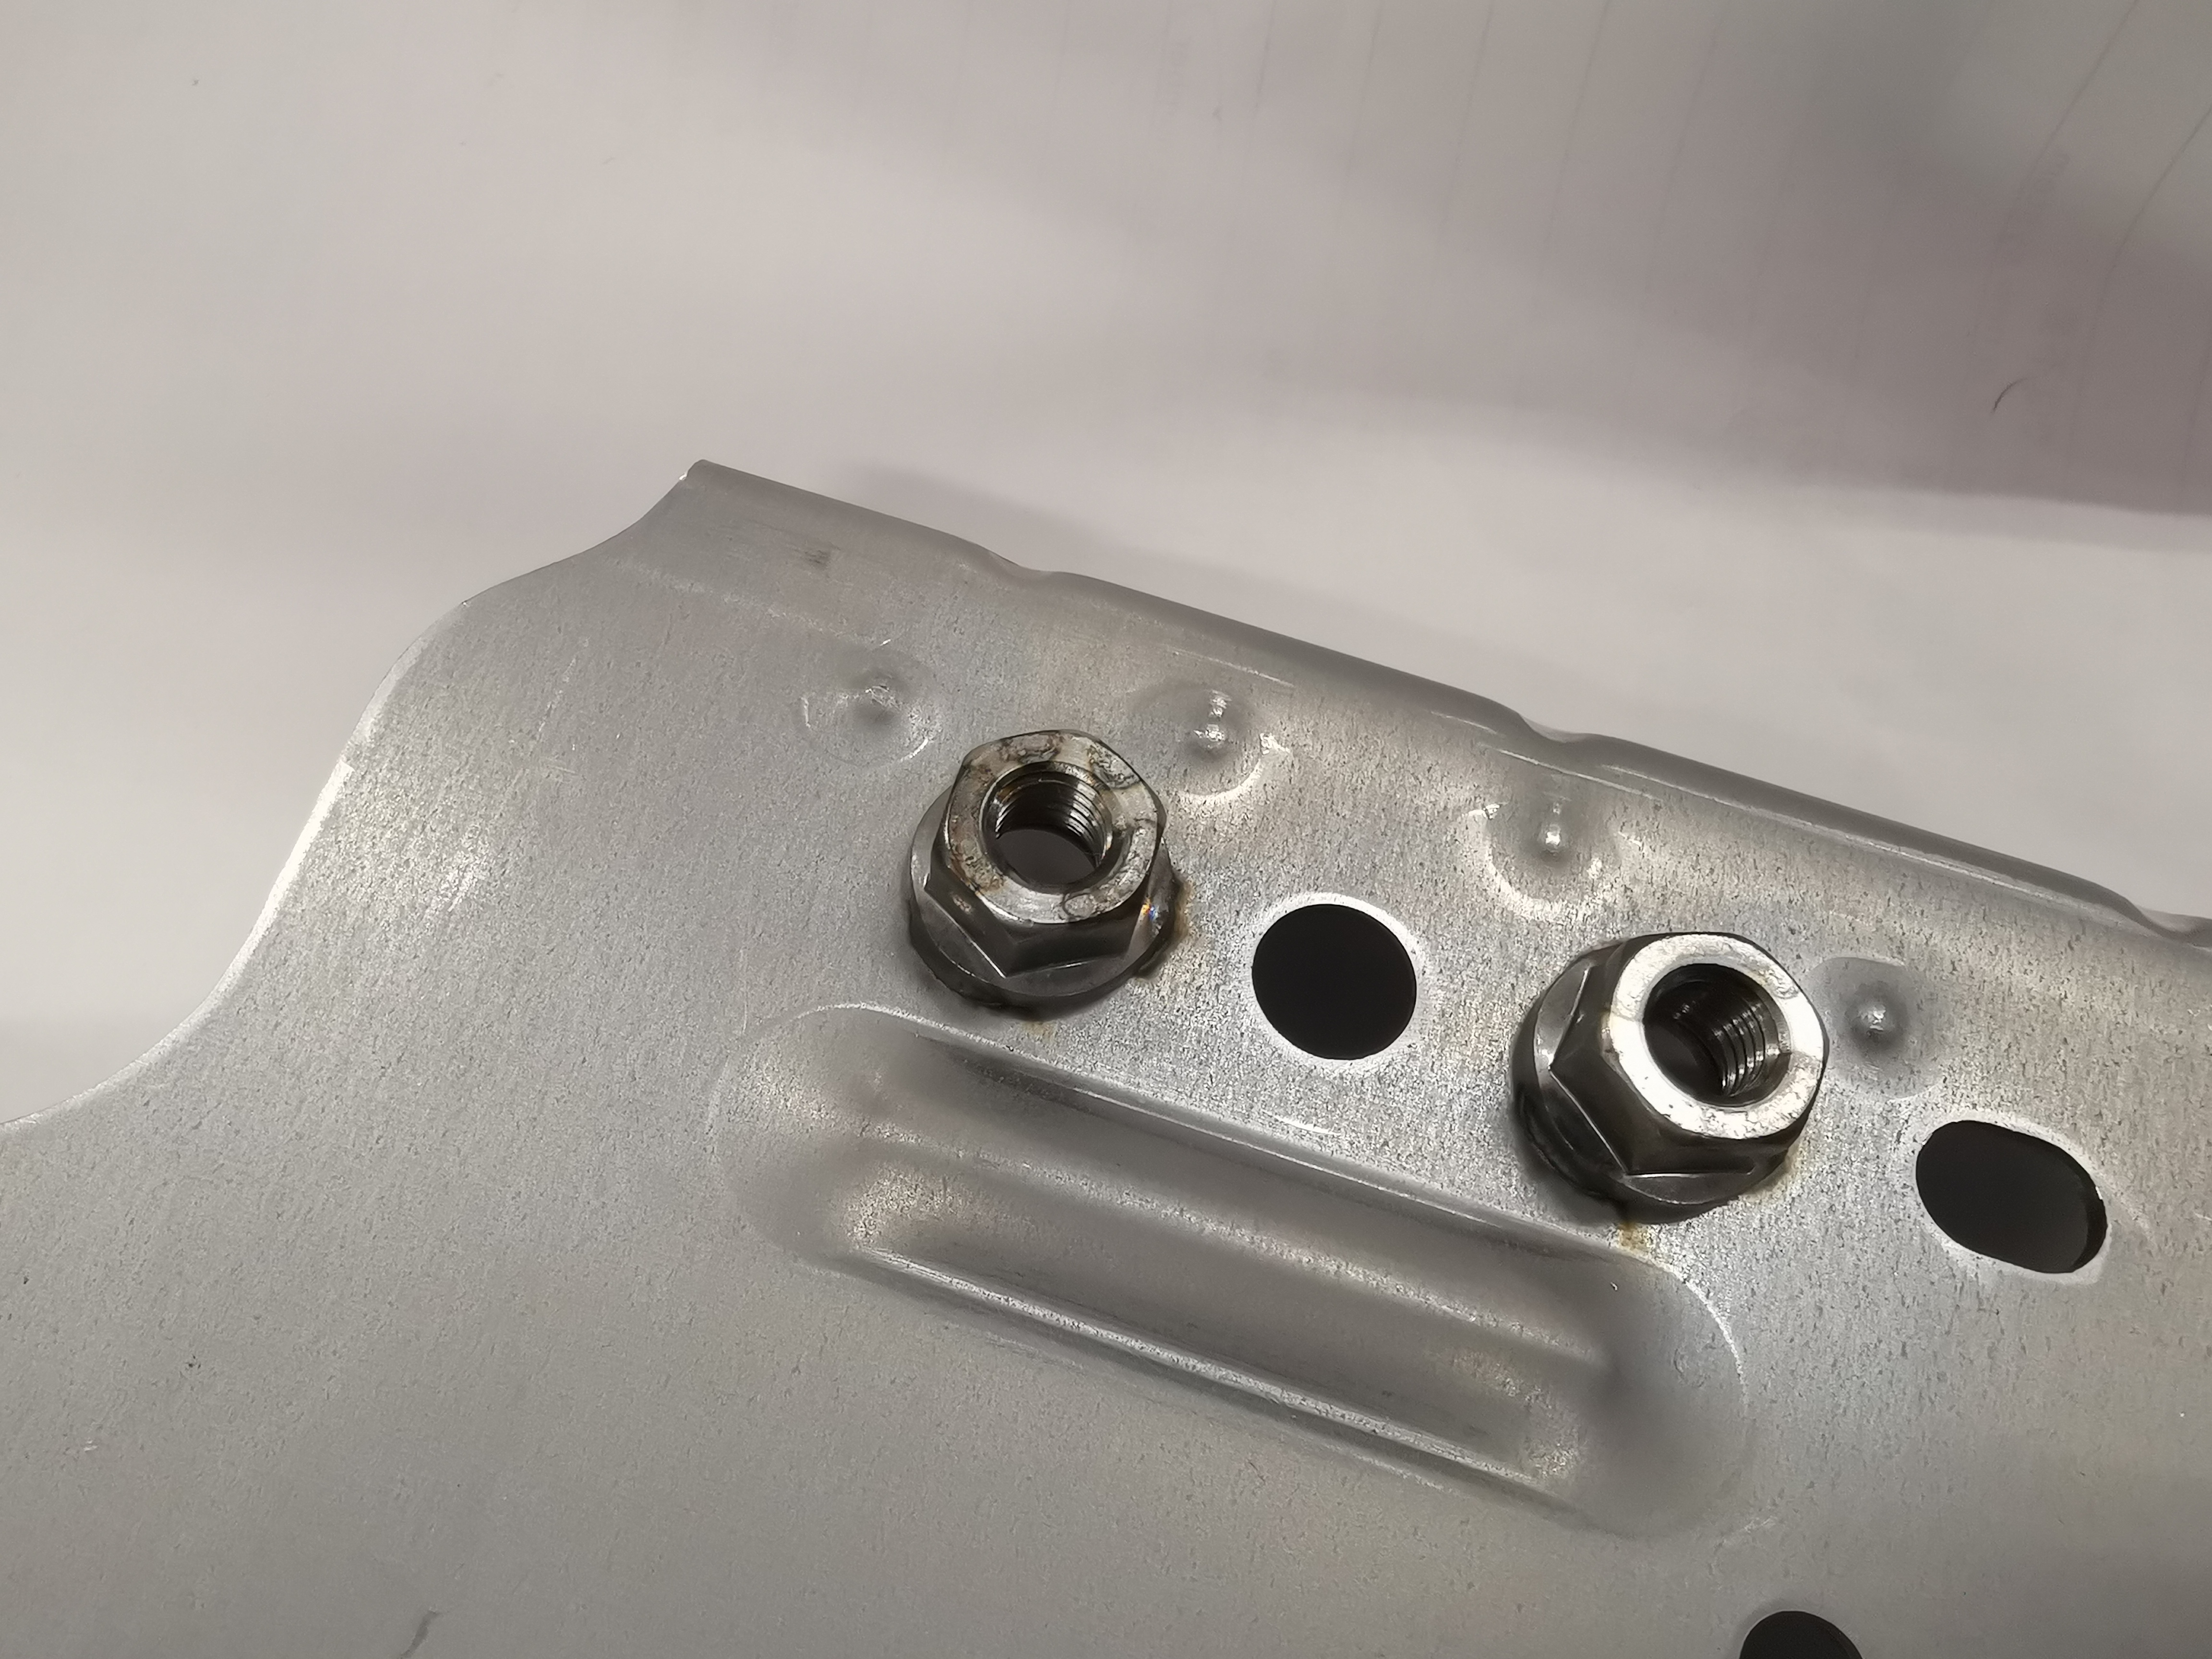dog: (1505, 925, 1839, 1227), (899, 725, 1184, 1019)
